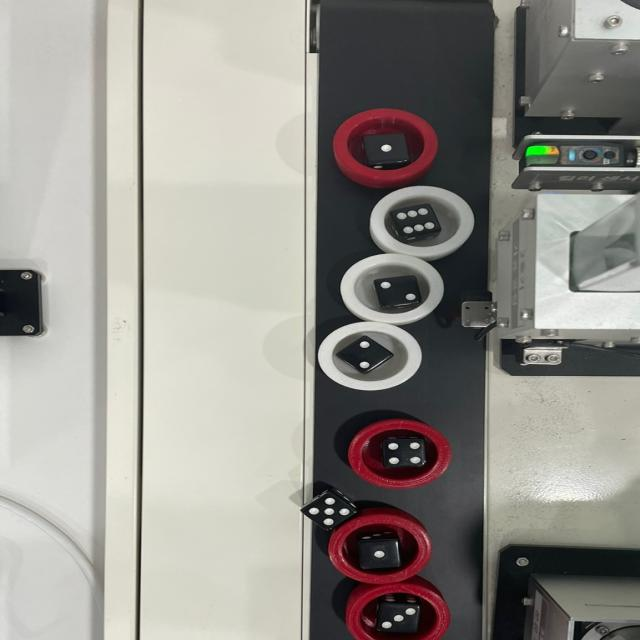DICE1: (367, 132, 408, 160), (362, 538, 403, 564)
DICE2: (376, 274, 420, 304), (344, 340, 384, 370)
DICE3: (381, 604, 421, 630)
DICE4: (384, 437, 425, 464)
DICE5: (305, 493, 353, 528)
DICE6: (396, 205, 437, 234)
RedChip: (334, 108, 439, 180), (347, 420, 450, 487), (328, 516, 427, 584), (344, 586, 449, 640)
WhiteChip: (368, 186, 474, 259), (318, 321, 426, 392), (339, 254, 444, 324)
